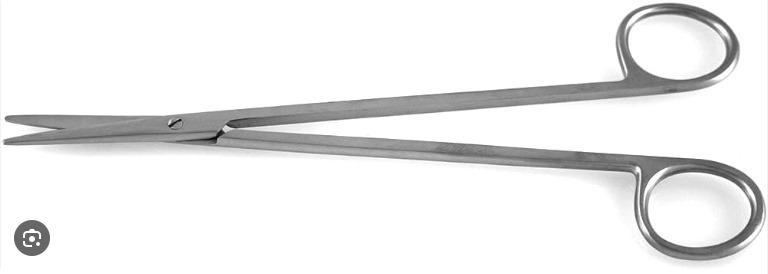Metzenbaum Sciccors: (3, 1, 768, 265)
